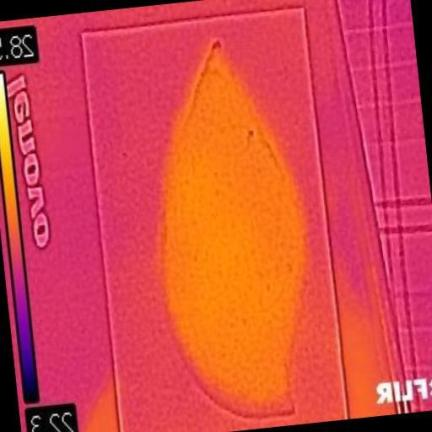mango: (163, 44, 307, 415)
